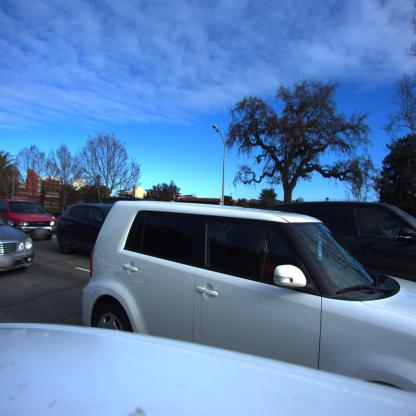car: (70, 197, 415, 406), (57, 203, 116, 256), (0, 200, 59, 242), (0, 216, 35, 276)
